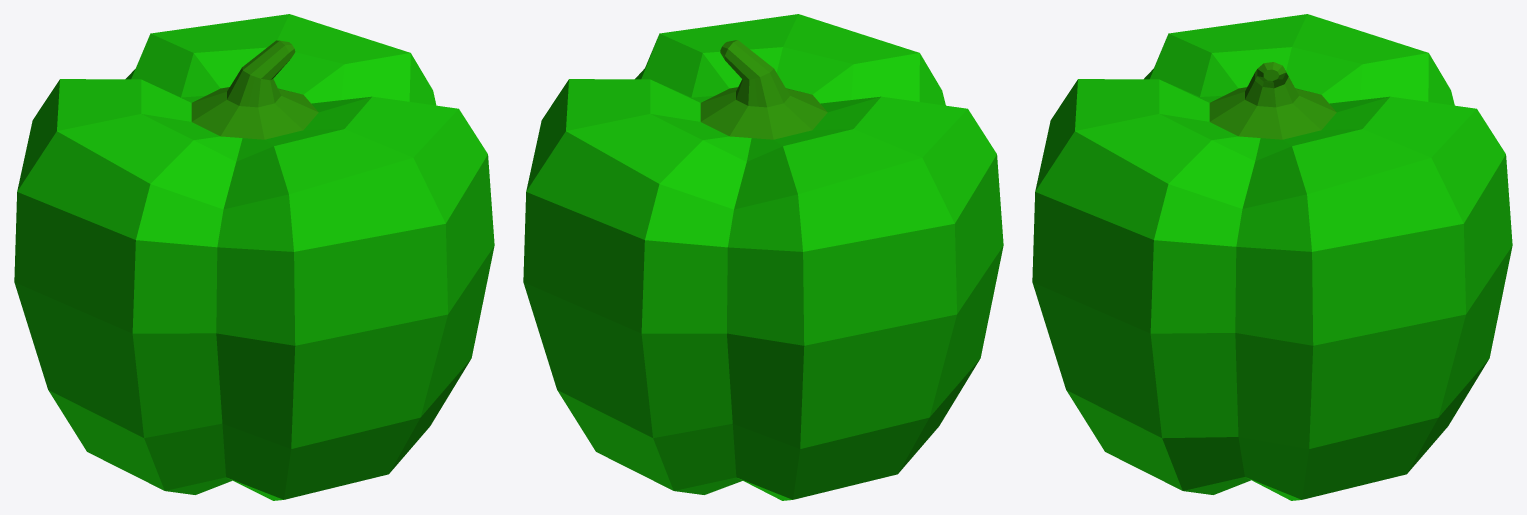
File: pepperfruit05.obj
3 views of the same model, side by side, from view 1: azimuth 30°, elevation 25°; view 2: azimuth 150°, elevation 25°; view 3: azimuth 270°, elevation 25° (orthographic).
Parts seen in each view (by area): view 1: Cylinder.002; view 2: Cylinder.002; view 3: Cylinder.002.
Part boxes in pixels (left/top/right/bottom): Cylinder.002: left=14, top=14, right=494, bottom=500; Cylinder.002: left=523, top=14, right=1003, bottom=500; Cylinder.002: left=1032, top=14, right=1512, bottom=500.
Bounding box in the file's own units: 0.0766 × 0.07 × 0.0754.
1 material, 1 textured.
